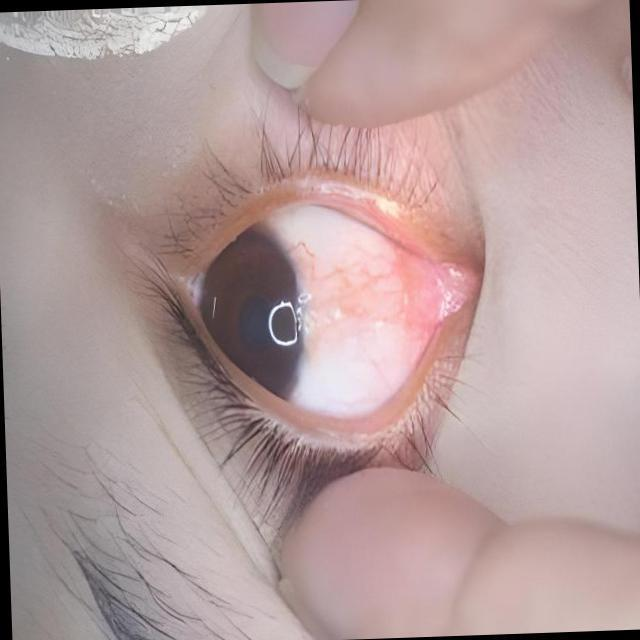Pterygium: (280, 239, 428, 376)
